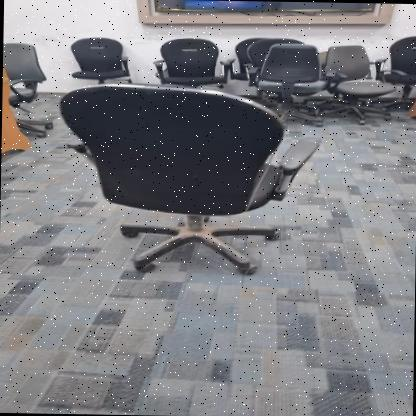chair: (48, 78, 323, 289), (318, 38, 399, 119), (146, 31, 226, 99), (258, 35, 324, 106), (65, 30, 128, 94)
